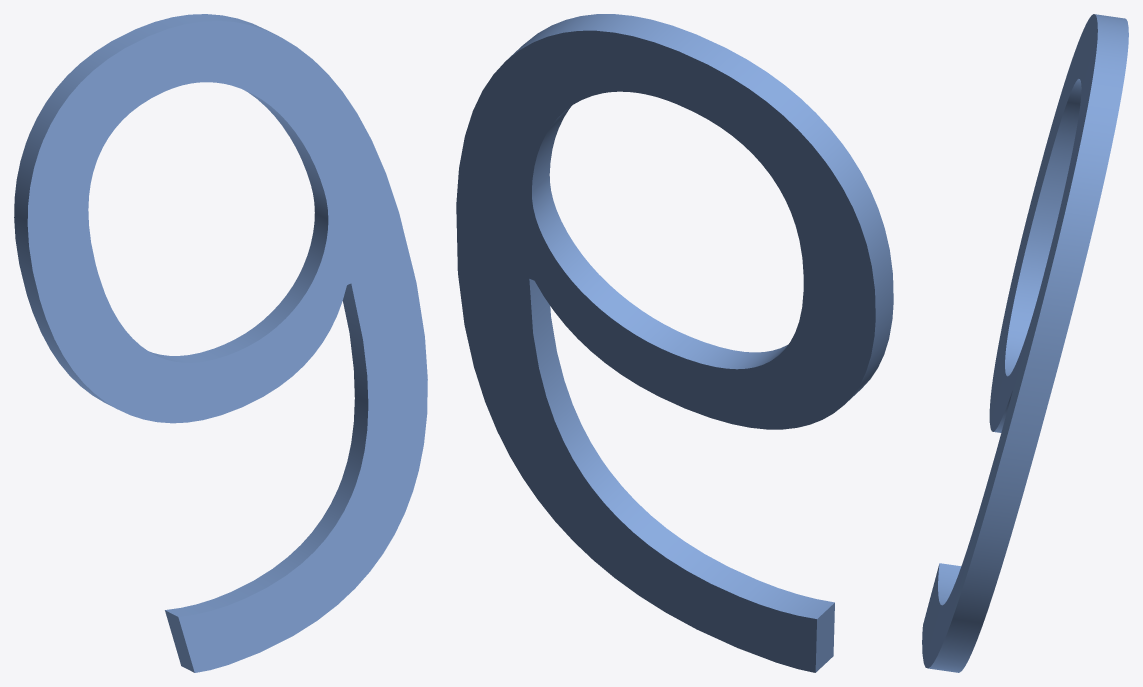
File: New_Number_6.gltf
3 renders of one model, left to right at view 1: azimuth 30°, elevation 25°; view 2: azimuth 150°, elevation 25°; view 3: azimuth 270°, elevation 25°, orthographic. The views are drawn at different scales.
Parts seen in each view (by area): view 1: Part 150; view 2: Part 150; view 3: Part 150.
Part boxes in pixels (bbox=[...]): Part 150: bbox=[14, 14, 427, 672]; Part 150: bbox=[456, 14, 893, 672]; Part 150: bbox=[922, 14, 1128, 672].
Bounding box in the file's own units: 0.00377 × 0.00564 × 0.00169.
